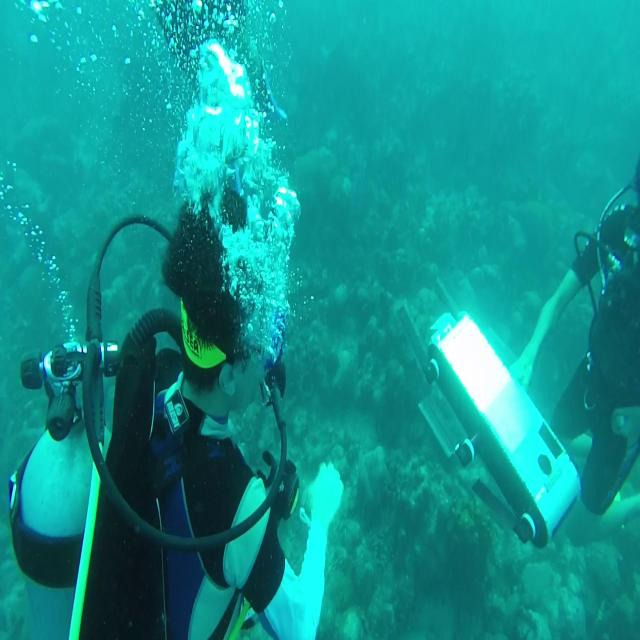human: (67, 184, 343, 638), (506, 158, 639, 519)
